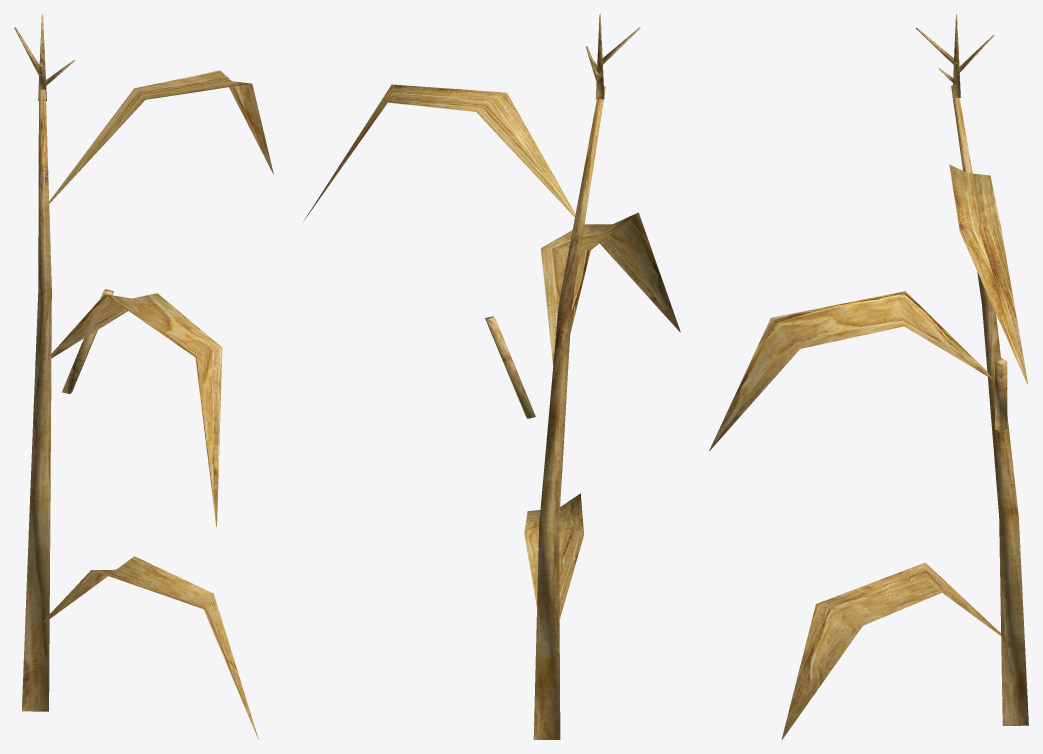
The model's file is Corn_D_Far.fbx.
The picture shows the model from 3 angles, left to right: view 1: azimuth 30°, elevation 25°; view 2: azimuth 150°, elevation 25°; view 3: azimuth 270°, elevation 25°; orthographic projection. The views are drawn at different scales.
Visible parts, largest first — view 1: Corn_D_Far; view 2: Corn_D_Far; view 3: Corn_D_Far.
Part boxes in pixels (box(x1,y1,x2,y2)): Corn_D_Far: box(14, 14, 273, 739); Corn_D_Far: box(303, 14, 680, 739); Corn_D_Far: box(709, 14, 1028, 739).
Size of the model in its own units: 3.35 by 8 by 3.33.
1 material, 1 textured.
